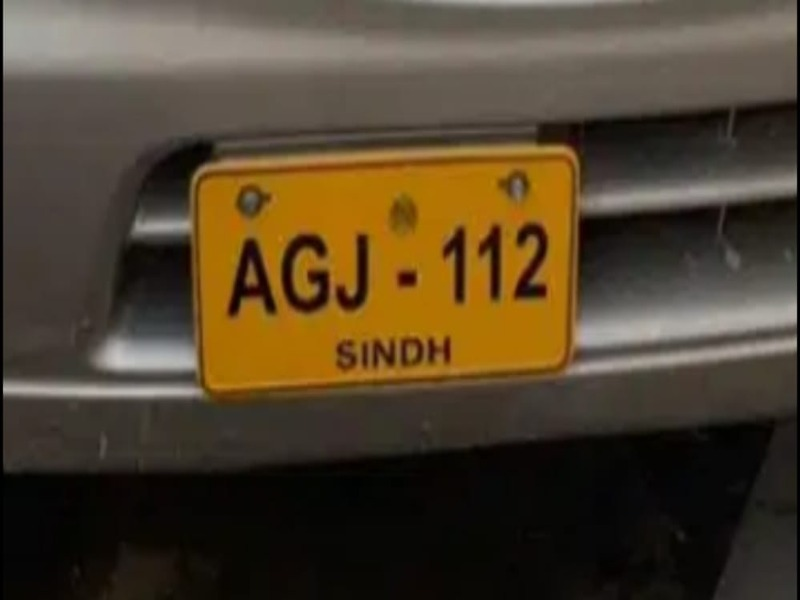License Plate: (189, 151, 578, 400)
